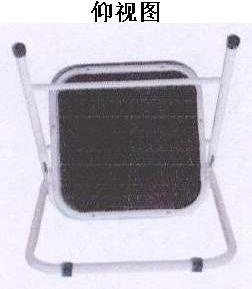obstacle: (10, 25, 247, 275)
